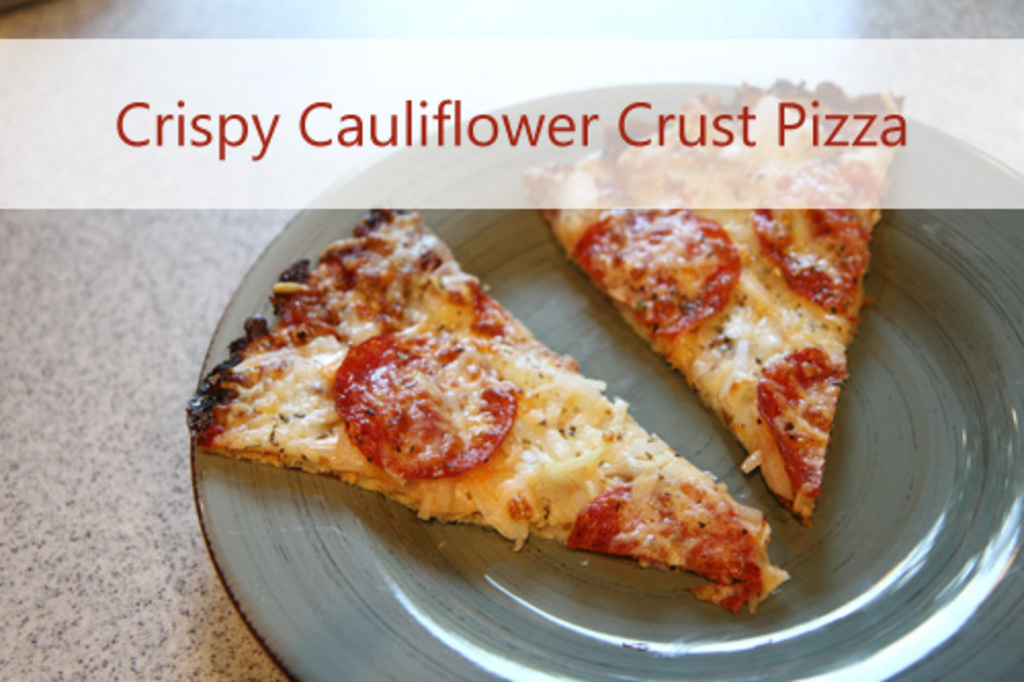Pizza: (200, 215, 792, 589), (522, 77, 899, 520)
